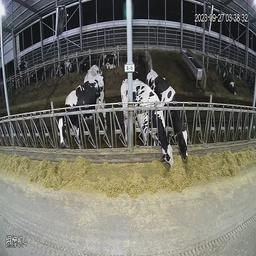cow: (120, 77, 172, 170), (146, 69, 189, 160), (55, 78, 101, 152), (83, 64, 104, 91), (222, 66, 237, 95), (103, 50, 117, 72)
